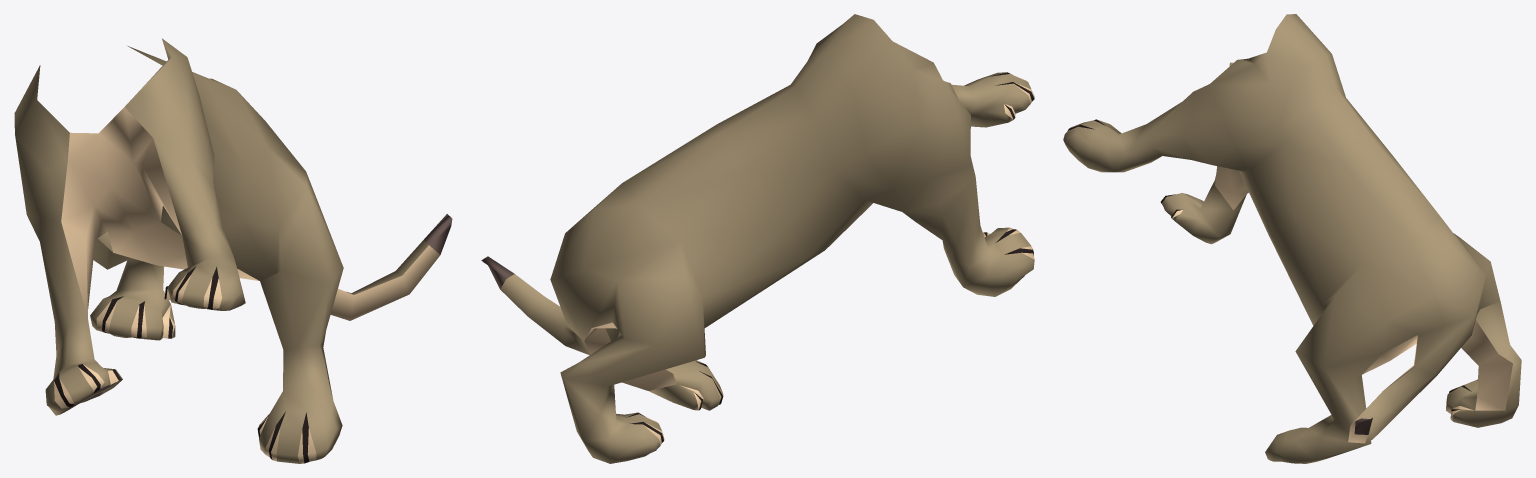
File: body.gltf
3 renders of one model, left to right at view 1: azimuth 30°, elevation 25°; view 2: azimuth 150°, elevation 25°; view 3: azimuth 270°, elevation 25°, orthographic. The views are drawn at different scales.
Parts seen in each view (by area): view 1: lioncub2.002; view 2: lioncub2.002; view 3: lioncub2.002.
Boxes of the visible parts, bbox=[...] form: lioncub2.002: bbox=[14, 38, 452, 463]; lioncub2.002: bbox=[481, 14, 1034, 463]; lioncub2.002: bbox=[1063, 14, 1521, 463].
Size of the model in its own units: 0.4773 by 0.4291 by 0.4796.
